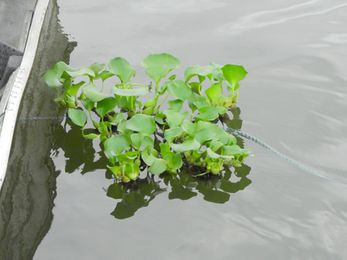water_hyacinth: (42, 54, 251, 190)
